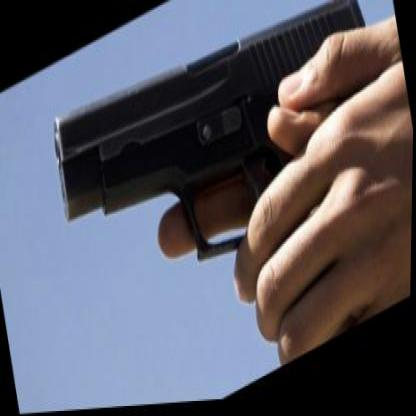pistol: (45, 0, 415, 409)
